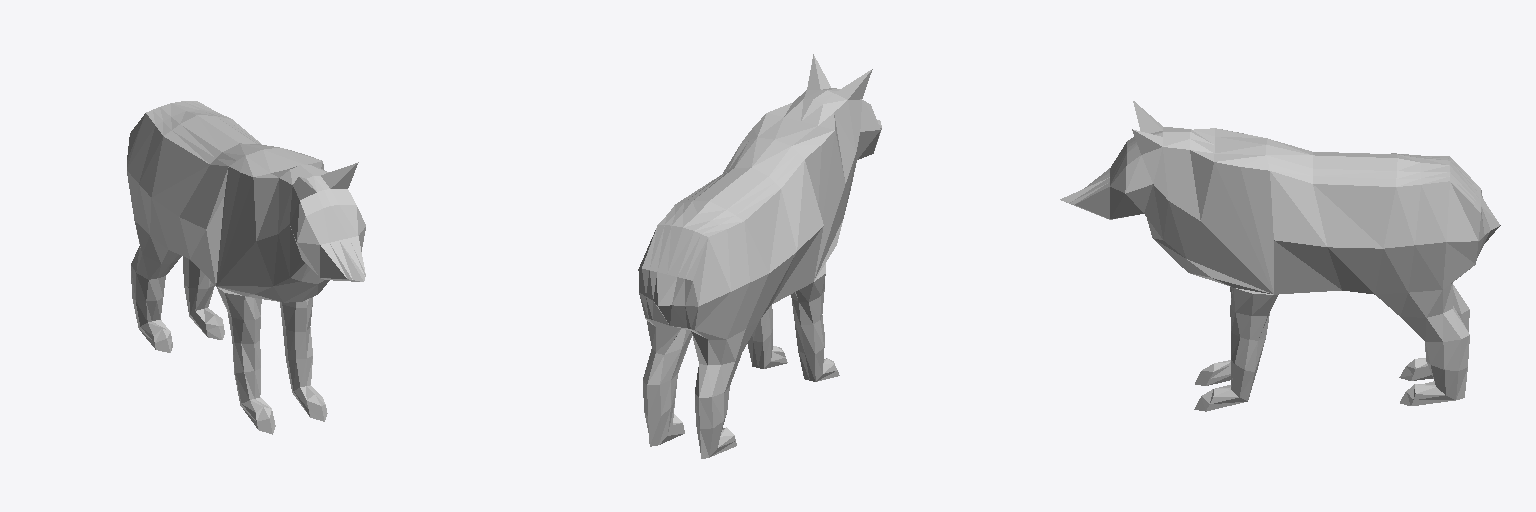
Rendered from piesblendtex_000002.obj.
3 views of the same model, side by side, from view 1: azimuth 30°, elevation 25°; view 2: azimuth 150°, elevation 25°; view 3: azimuth 270°, elevation 25° (orthographic).
Parts seen in each view (by area): view 1: Cube; view 2: Cube; view 3: Cube.
Boxes of the visible parts, box(x1,y1,x2,y2) form: Cube: box(127, 101, 365, 434); Cube: box(638, 54, 881, 458); Cube: box(1060, 101, 1500, 411).
Size of the model in its own units: 2.55 by 6.51 by 9.24.